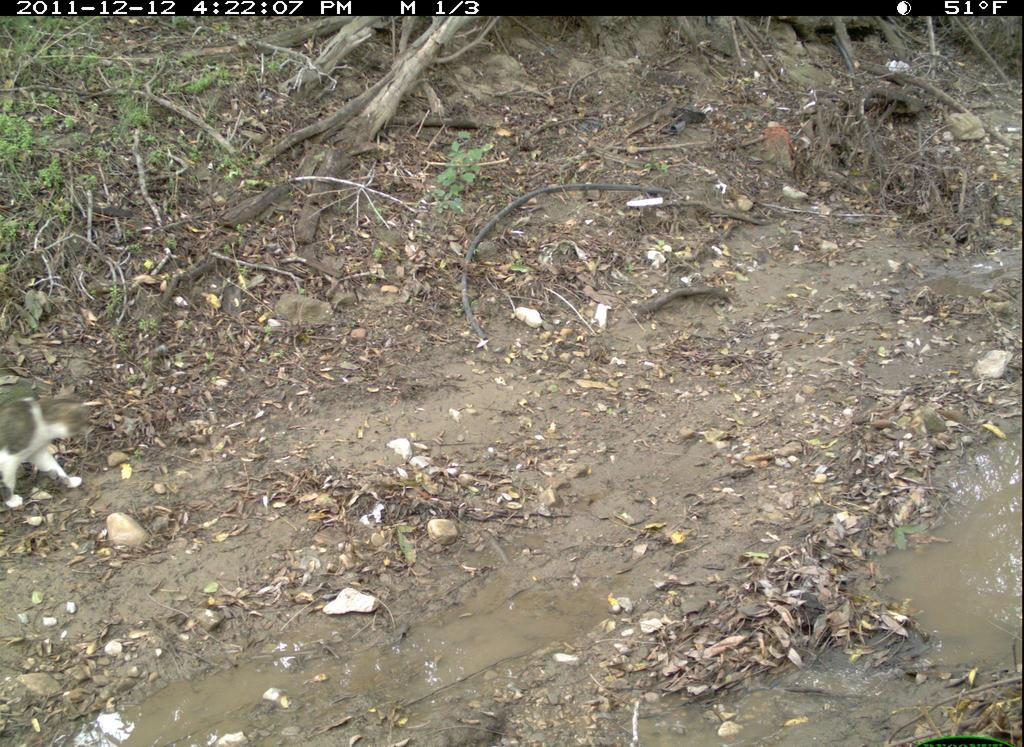cat: (4, 383, 102, 509)
